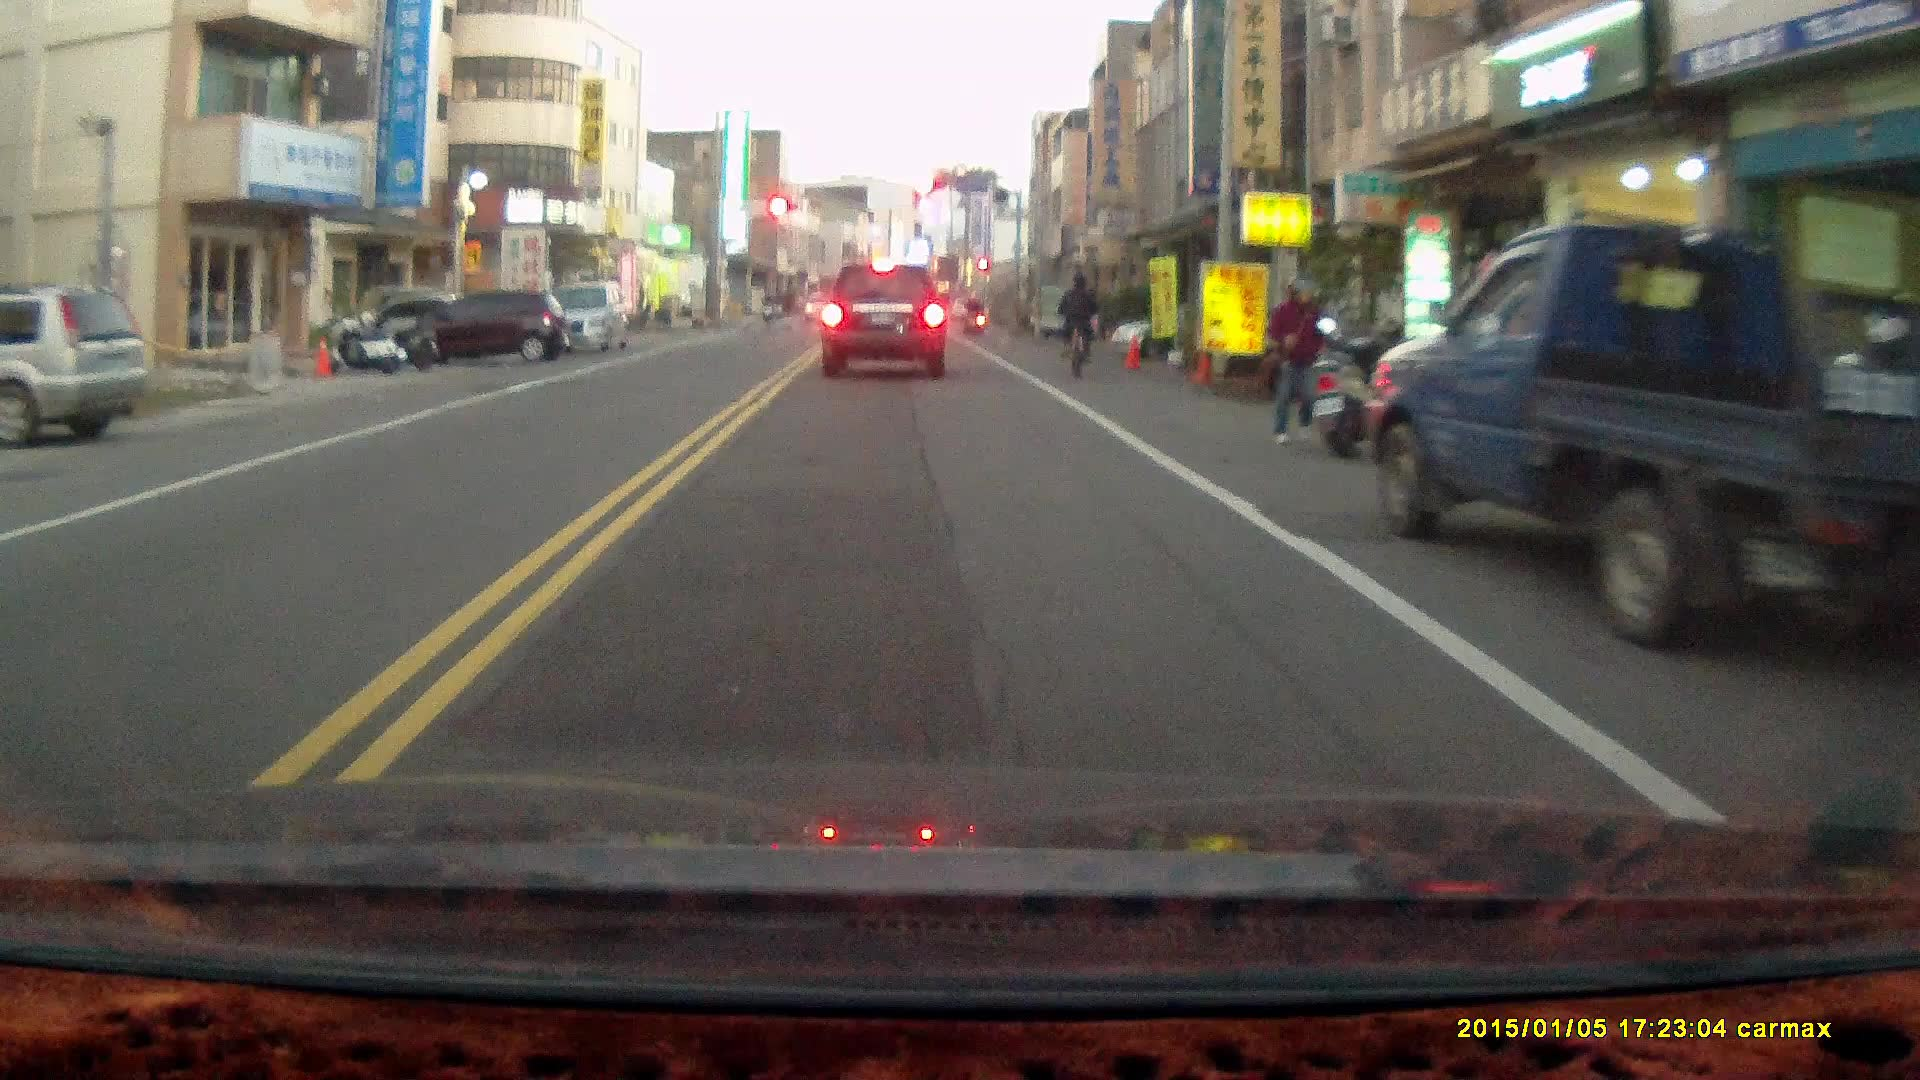pedestrian: (1267, 275, 1324, 448)
rider: (1056, 269, 1098, 381)
vehicle: (1364, 210, 1920, 654), (1, 281, 150, 447), (819, 263, 948, 383), (405, 292, 570, 367), (517, 280, 638, 358)
